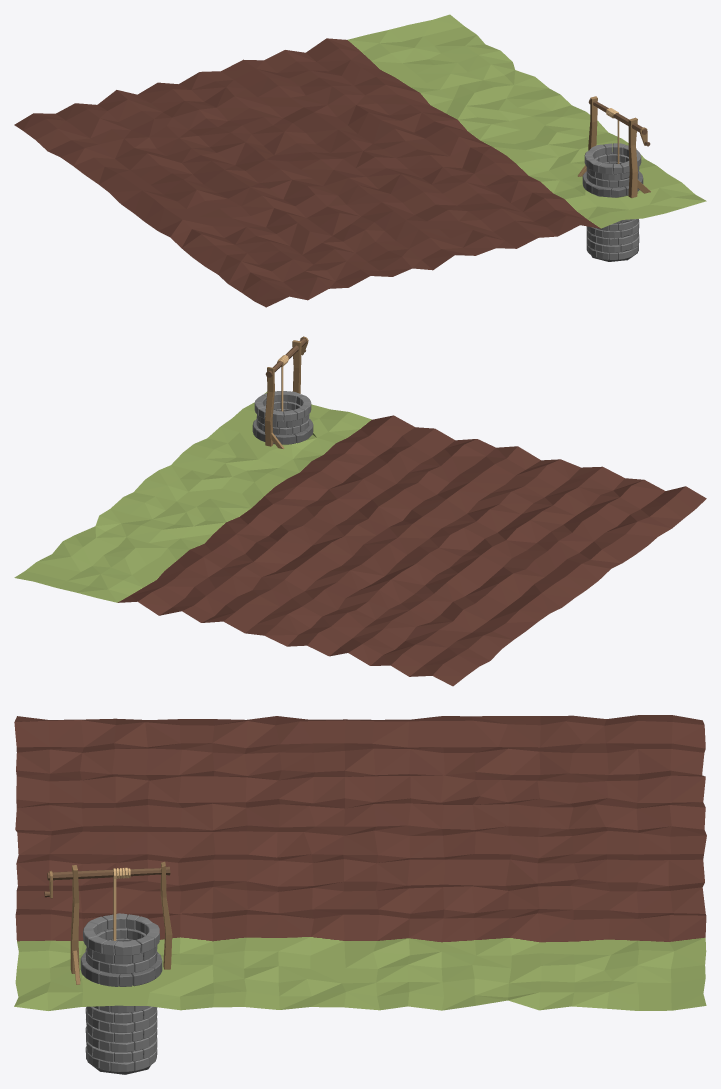
The model's file is agri-biome-top.glb.
3 renders of one model, top to bottom at view 1: azimuth 30°, elevation 25°; view 2: azimuth 150°, elevation 25°; view 3: azimuth 270°, elevation 25°, orthographic. The views are drawn at different scales.
Parts seen in each view (by area): view 1: SOIL-TOP, well; view 2: SOIL-TOP, well; view 3: SOIL-TOP, well.
Boxes of the visible parts, box(x1,y1,x2,y2) form: SOIL-TOP: box(14, 14, 706, 307); well: box(577, 96, 650, 261); SOIL-TOP: box(14, 391, 706, 686); well: box(252, 336, 313, 448); SOIL-TOP: box(14, 715, 706, 1010); well: box(44, 861, 172, 1074).
Bounding box in the file's own units: 2.01 × 0.6347 × 2.02.
Materials: 8 (1 with a texture image).
